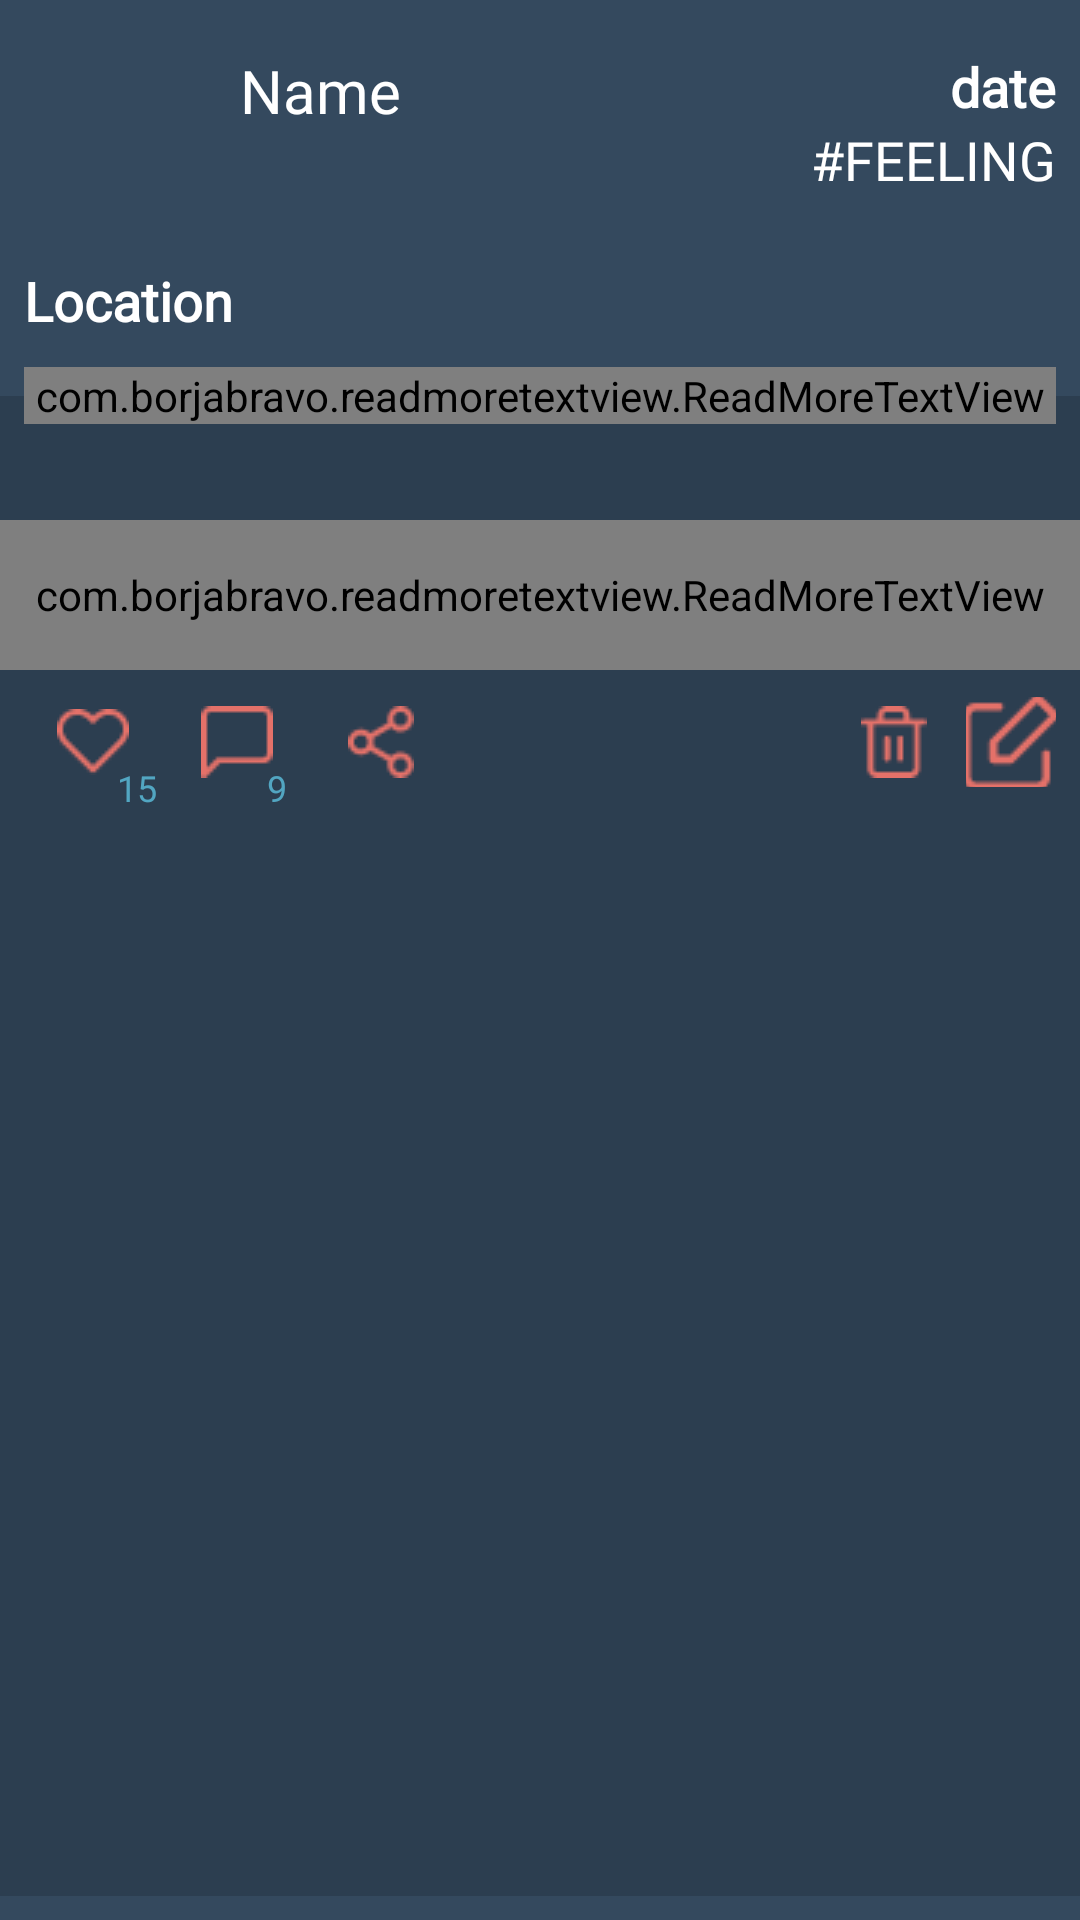

Icons on this 1080 × 1920 Android screen, each with the point to tap as (x,y):
comment: (243,754)
delete: (894,742)
edit: (1011,742)
like: (106,756)
sharenew: (381,742)
